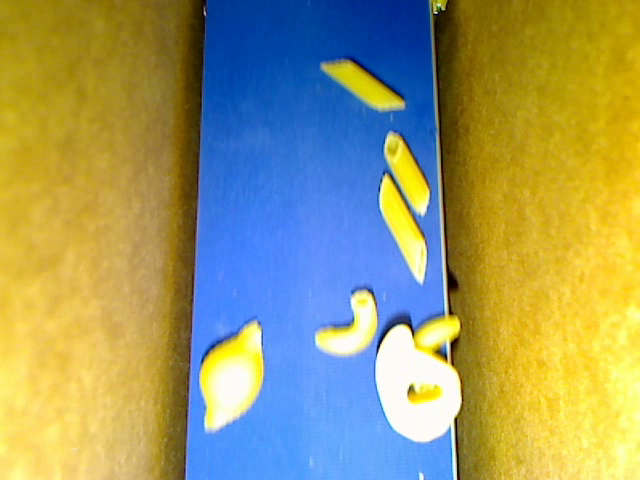elbow: (314, 288, 377, 356), (412, 315, 461, 354)
penne: (377, 172, 427, 286), (320, 57, 406, 113), (381, 129, 430, 217)
shell: (199, 318, 263, 434)
tortellini: (375, 322, 463, 443)
